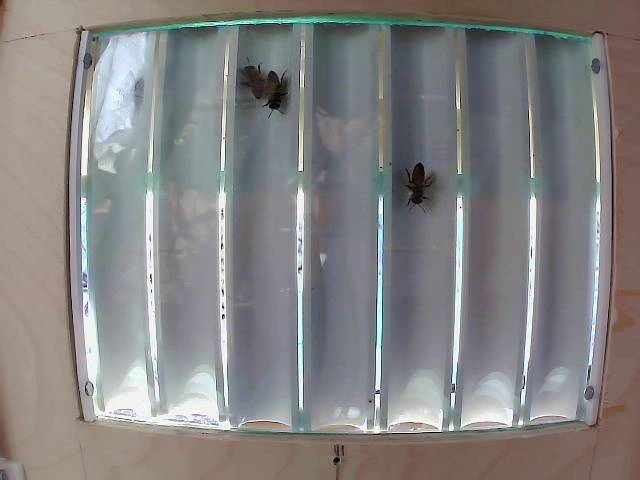bee: (400, 157, 431, 220), (254, 62, 283, 107), (235, 58, 261, 99)
